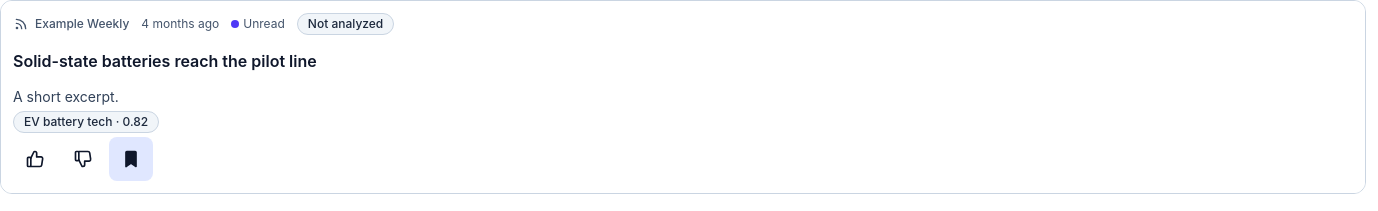
Test: the colour and the name of the action › on the right, "bookmark" of {"bookmarkedAt":"2026-05-31T10:00:00.000Z"} is named "Remove bookmark"
Press the mouse on the element named "Solid-state batteries reach the pilot line" at (683, 97), box 0,0 -> 1366,194
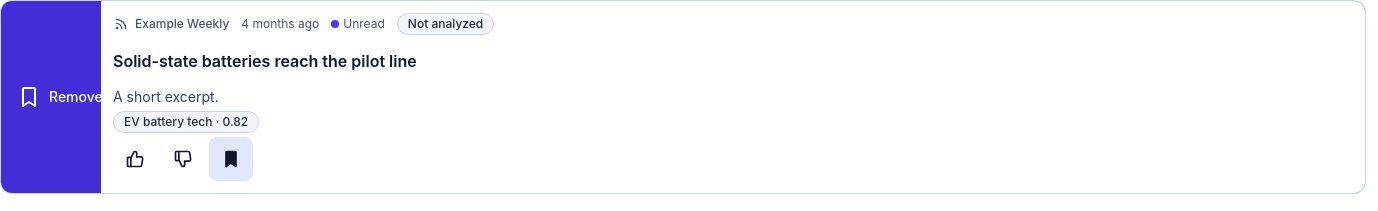
Expected: the element showing "Remove bookmark" is shown
Expected: the text "Remove bookmark" is shown, 49,87 -> 174,107
